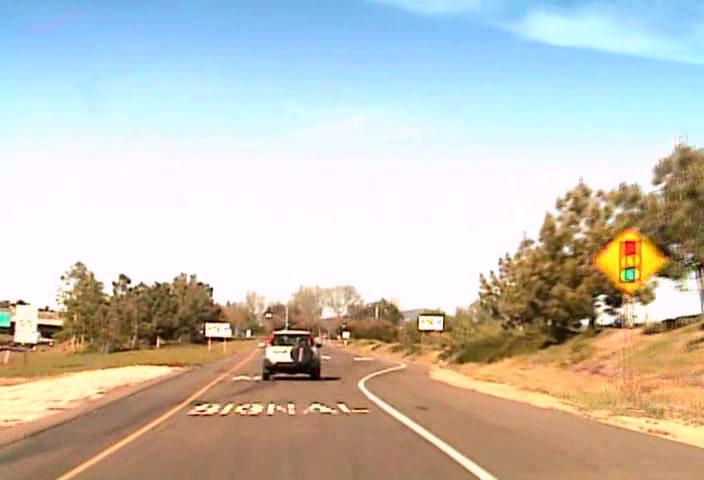signalAhead: (593, 226, 667, 293)
